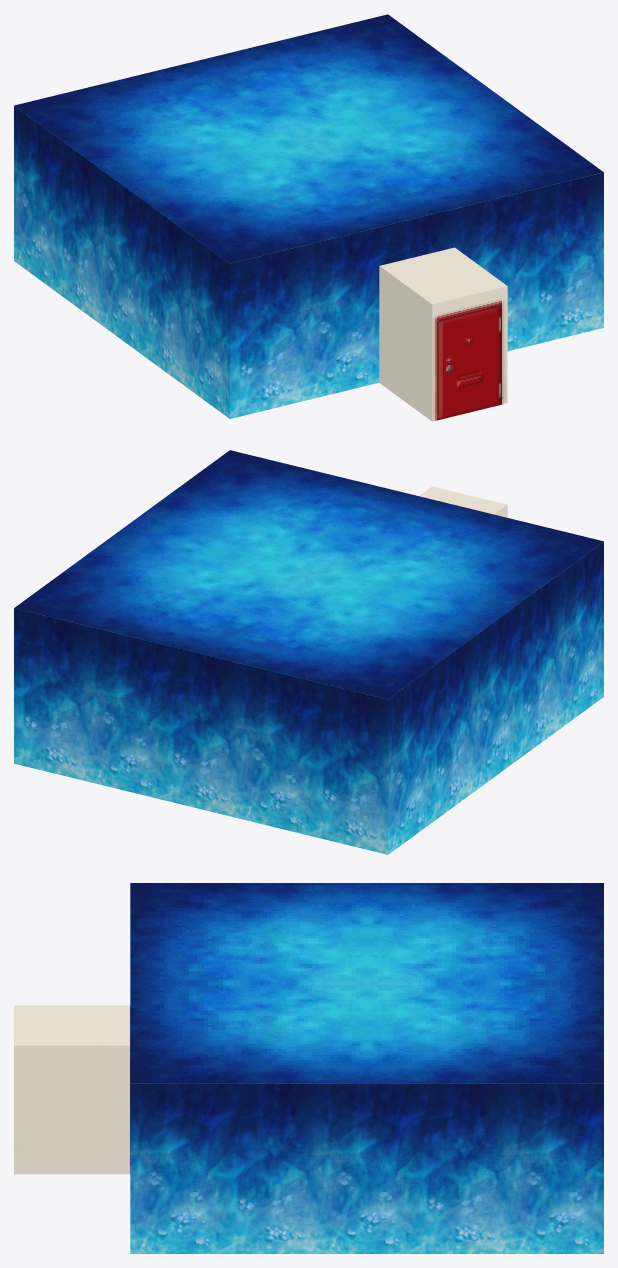
Rendered from crystal-room.glb.
3 views of the same model, one above another, from view 1: azimuth 30°, elevation 25°; view 2: azimuth 150°, elevation 25°; view 3: azimuth 270°, elevation 25° (orthographic). The views are drawn at different scales.
Parts seen in each view (by area): view 1: mtRm023Cel00t_mat, mtRm023Wal00t_mat_0, mtRmCmnEnt00t_mat; view 2: mtRm023Cel00t_mat, mtRm023Wal00t_mat, mtRm023Wal00t_mat_0, mtRmCmnEnt00t_mat; view 3: mtRm023Cel00t_mat, mtRm023Wal00t_mat, mtRmCmnEnt00t_mat.
Part boxes in pixels (x1,y1,x2,y2): mtRm023Cel00t_mat: (14,14,603,263); mtRm023Wal00t_mat_0: (14,106,603,418); mtRmCmnEnt00t_mat: (379,247,507,421); mtRm023Cel00t_mat: (14,450,603,699); mtRm023Wal00t_mat: (14,608,387,854); mtRm023Wal00t_mat_0: (388,541,603,854); mtRmCmnEnt00t_mat: (419,486,507,517); mtRm023Cel00t_mat: (130,883,603,1083); mtRm023Wal00t_mat: (130,1083,603,1253); mtRmCmnEnt00t_mat: (14,1005,129,1174).
Bounding box in the file's own units: 6.8 × 2.78 × 8.47.
Materials: 16 (16 with a texture image).
